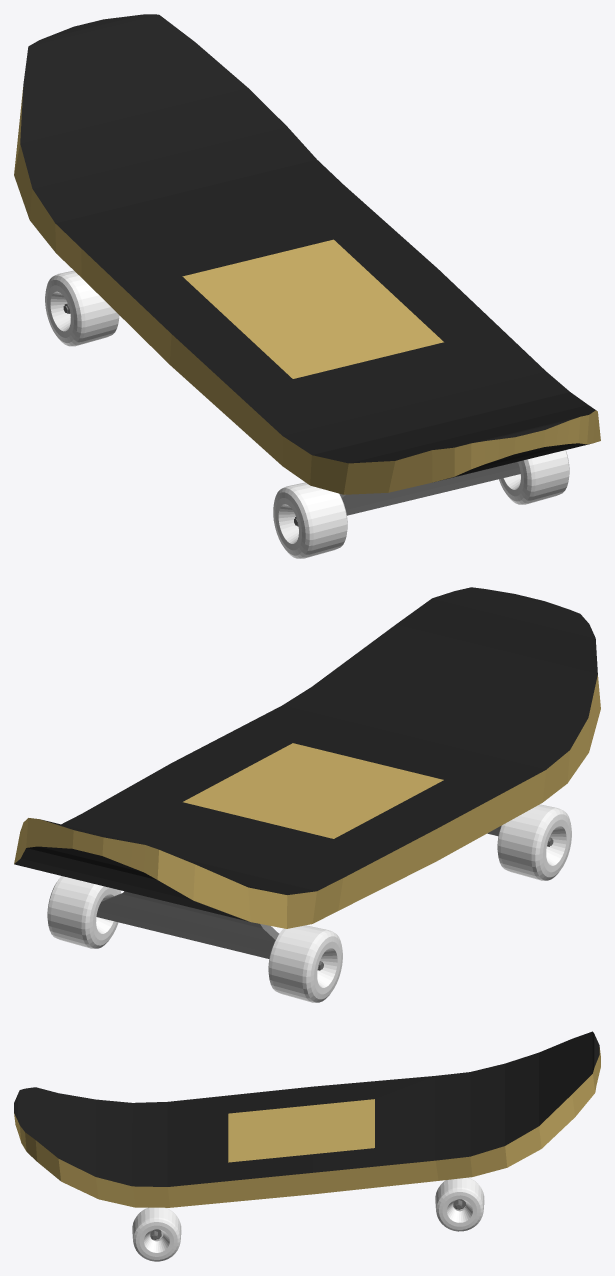
File: skate.glb
3 views of the same model, one above another, from view 1: azimuth 30°, elevation 25°; view 2: azimuth 150°, elevation 25°; view 3: azimuth 270°, elevation 25° (orthographic). The views are drawn at different scales.
Parts seen in each view (by area): view 1: Cube, Cylinder, Cylinder.002, Cylinder.001; view 2: Cube, Cylinder.002, Cylinder, Cylinder.003; view 3: Cube, Cylinder.001, Cylinder.003.
Boxes of the visible parts, x1,y1,x2,y2 form: Cube: (14, 14, 600, 526); Cylinder: (273, 482, 347, 558); Cylinder.002: (45, 270, 119, 346); Cylinder.001: (499, 450, 569, 504); Cube: (14, 587, 600, 970); Cylinder.002: (268, 925, 342, 1002); Cylinder: (497, 804, 571, 880); Cylinder.003: (47, 876, 120, 948); Cube: (14, 1031, 600, 1239); Cylinder.001: (132, 1207, 181, 1261); Cylinder.003: (435, 1177, 484, 1231).
Size of the model in its own units: 2 by 1.85 by 5.75.
